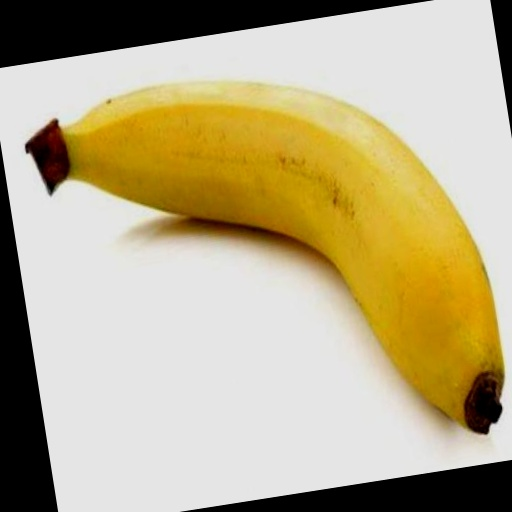fruit: (26, 83, 503, 433)
